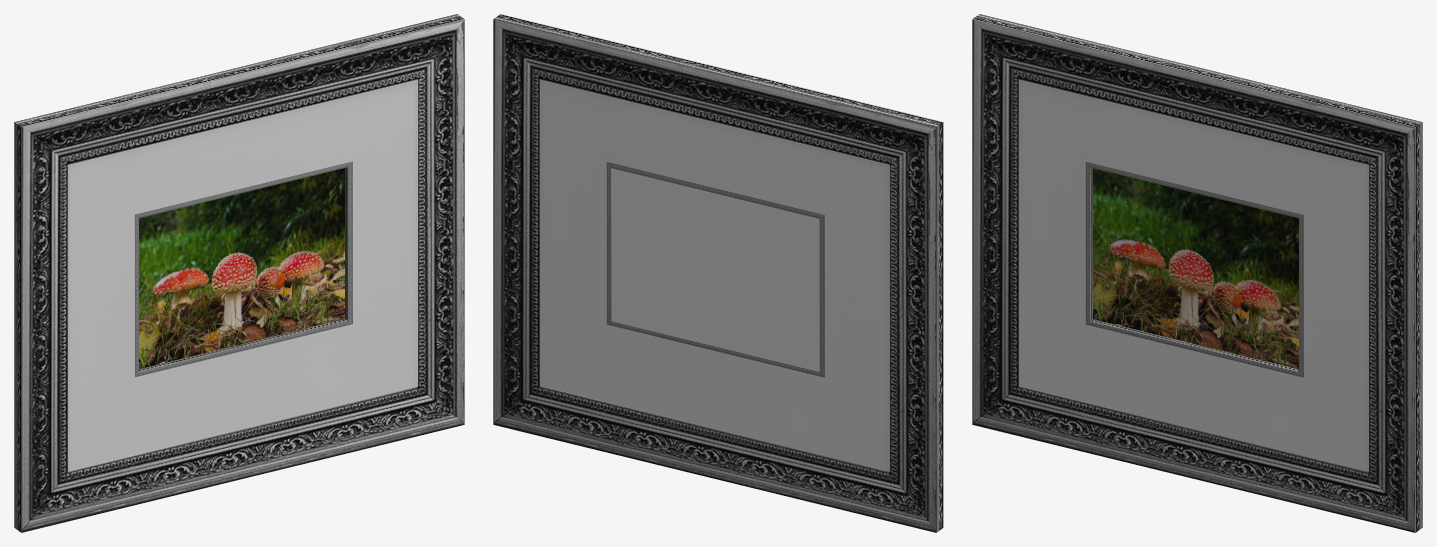
The model's file is Frame_020A.FBX.
3 views of the same model, side by side, from view 1: azimuth 30°, elevation 25°; view 2: azimuth 150°, elevation 25°; view 3: azimuth 330°, elevation 25° (orthographic).
Visible parts, largest first — view 1: Frame_020A; view 2: Frame_020A; view 3: Frame_020A.
Part boxes in pixels (bbox=[...]): Frame_020A: bbox=[14, 14, 464, 532]; Frame_020A: bbox=[493, 14, 943, 532]; Frame_020A: bbox=[972, 14, 1422, 532].
Bounding box in the file's own units: 720 × 19.96 × 630.
